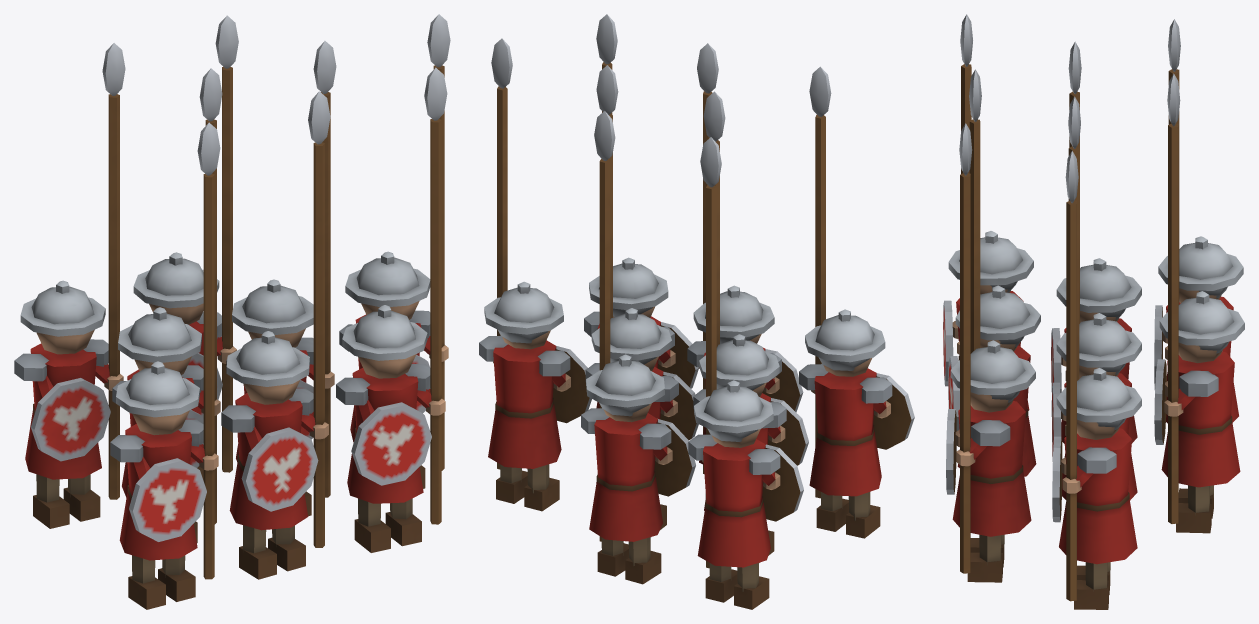
File: squad_dl2_red.glb
The picture shows the model from 3 angles, left to right: view 1: azimuth 30°, elevation 25°; view 2: azimuth 150°, elevation 25°; view 3: azimuth 270°, elevation 25°; orthographic projection. The views are drawn at different scales.
Parts seen in each view (by area): view 1: squad_dl2_red; view 2: squad_dl2_red; view 3: squad_dl2_red.
Part boxes in pixels (box(x1,y1,x2,y2)): squad_dl2_red: box(14, 14, 450, 609); squad_dl2_red: box(479, 14, 914, 609); squad_dl2_red: box(943, 14, 1244, 609).
Bounding box in the file's own units: 0.6701 × 0.7916 × 0.4652.
1 material, 1 textured.
